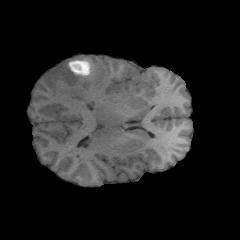glioma: (45, 57, 109, 101)
